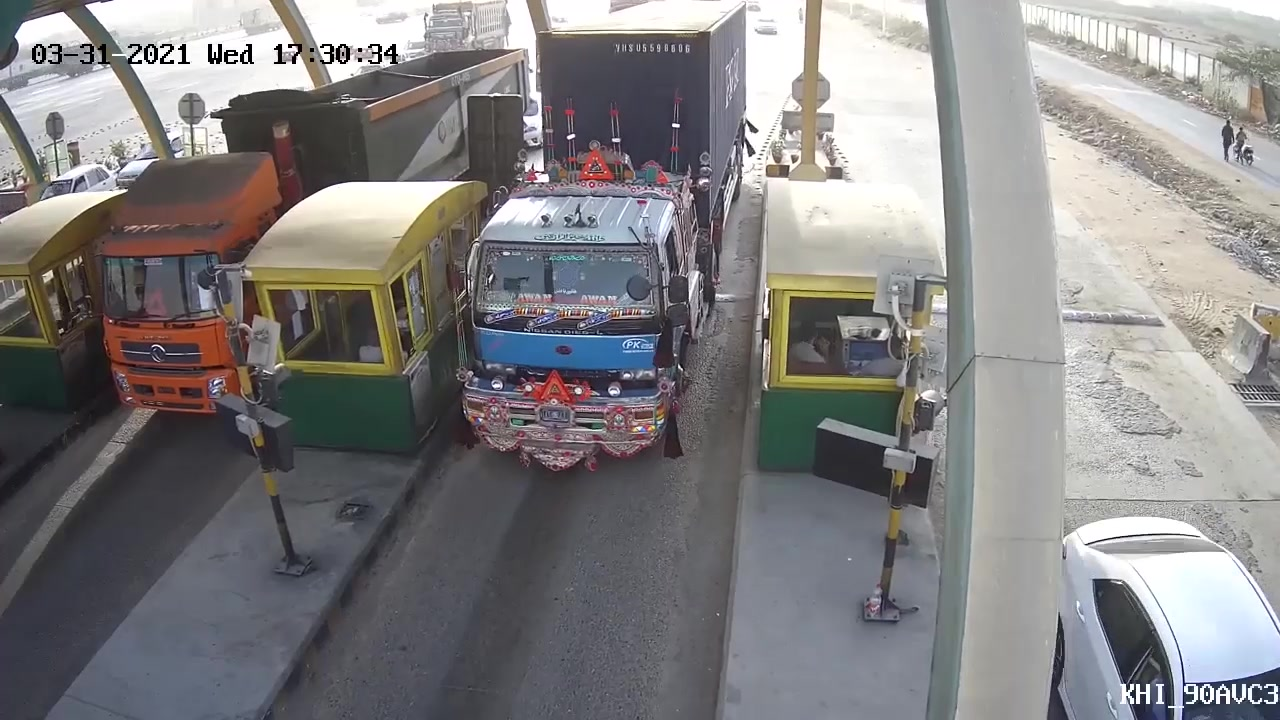F6: (437, 26, 721, 500)
